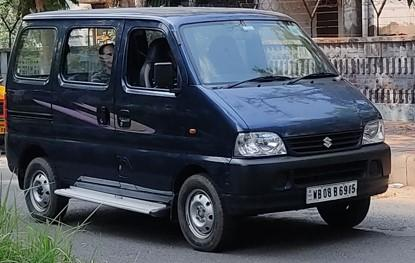Auto: (2, 4, 396, 257)
